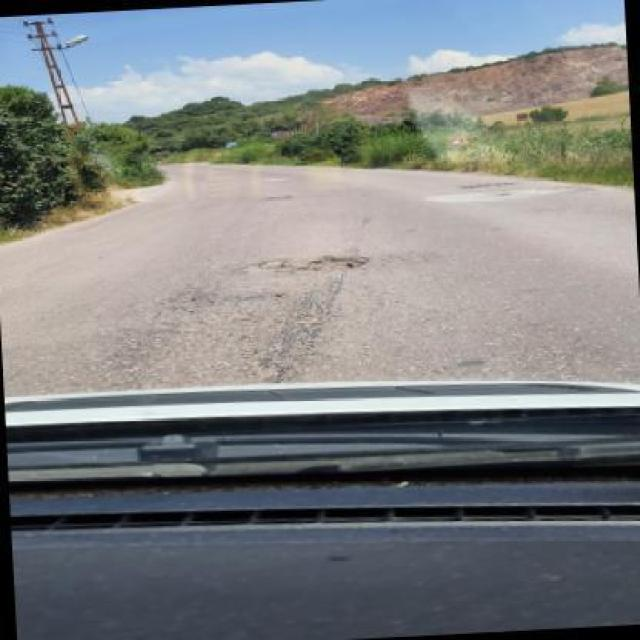pothole: (258, 256, 370, 276)
